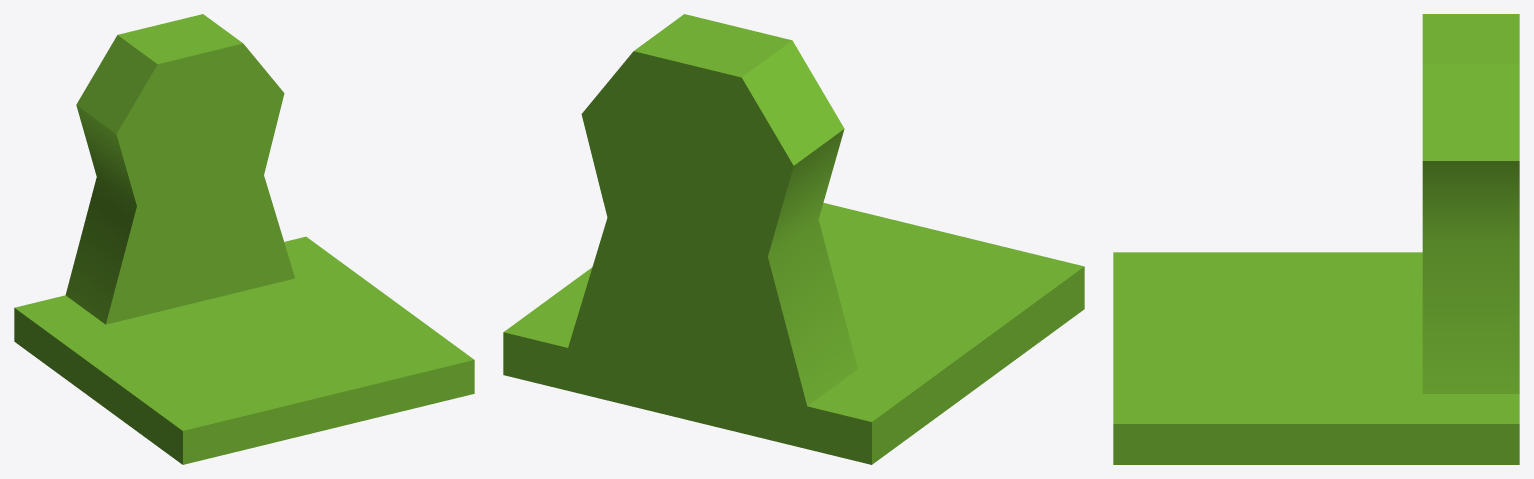
The model's file is SM_Tower_Plague.fbx.
3 renders of one model, left to right at view 1: azimuth 30°, elevation 25°; view 2: azimuth 150°, elevation 25°; view 3: azimuth 270°, elevation 25°, orthographic. The views are drawn at different scales.
Parts seen in each view (by area): view 1: SM_Tower_Plague; view 2: SM_Tower_Plague; view 3: SM_Tower_Plague.
Part boxes in pixels (x1=…): SM_Tower_Plague: x1=14, y1=14, x2=474, y2=464; SM_Tower_Plague: x1=503, y1=14, x2=1084, y2=464; SM_Tower_Plague: x1=1113, y1=14, x2=1519, y2=464.
Bounding box in the file's own units: 146 × 134 × 146.
